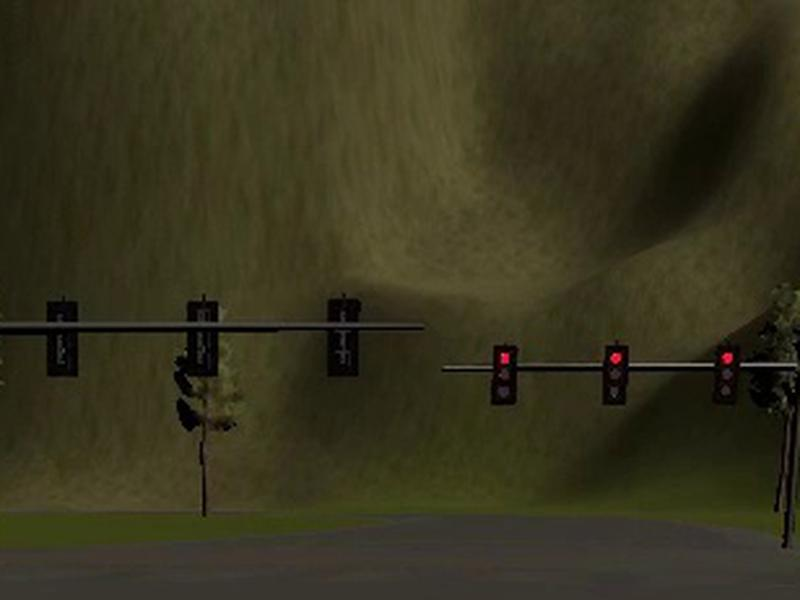Red: (712, 343, 740, 406), (491, 344, 519, 406), (603, 345, 632, 404)
